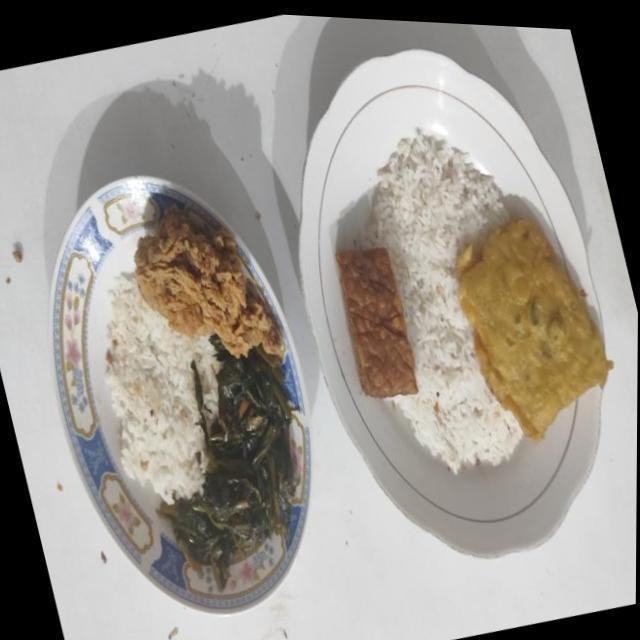nasi_putih: (361, 130, 524, 473), (105, 276, 219, 501)
tempe_goreng: (334, 248, 418, 398)
tumis_kangkung: (156, 334, 296, 592)
